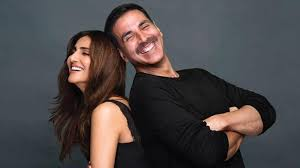Bad: (50, 4, 277, 168)
